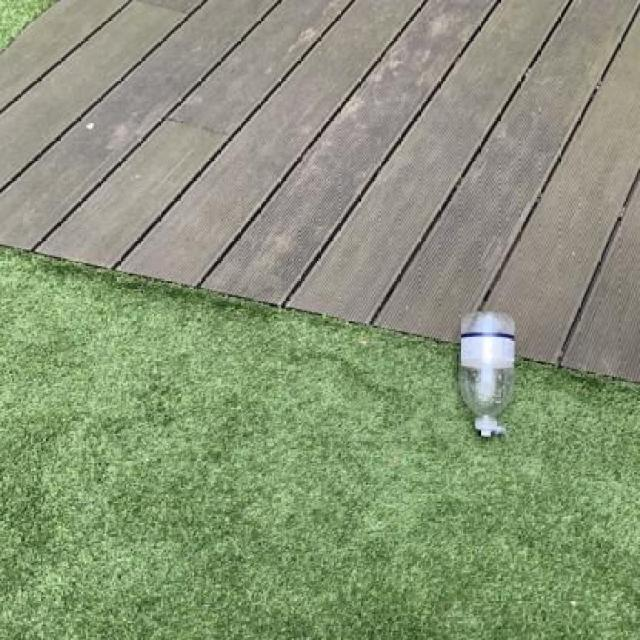trash: (456, 313, 516, 442)
